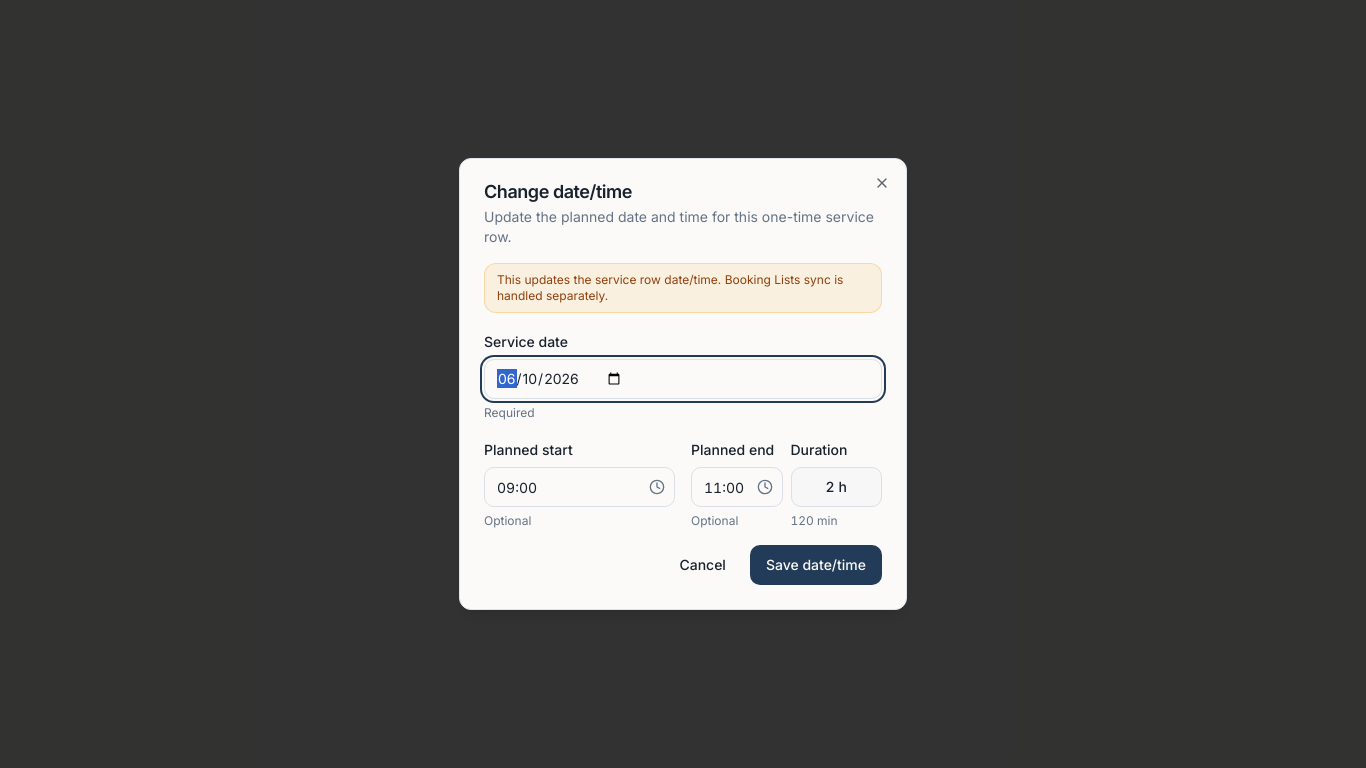
Test: CORE-WRITES-WORKORDERS-A1.2.4a ChangeDateTimeDialog › keeps the dialog open when the RPC fails
Type "2026-06-12" into the date field named "Service date" at (683, 379), box [484,359,882,399]
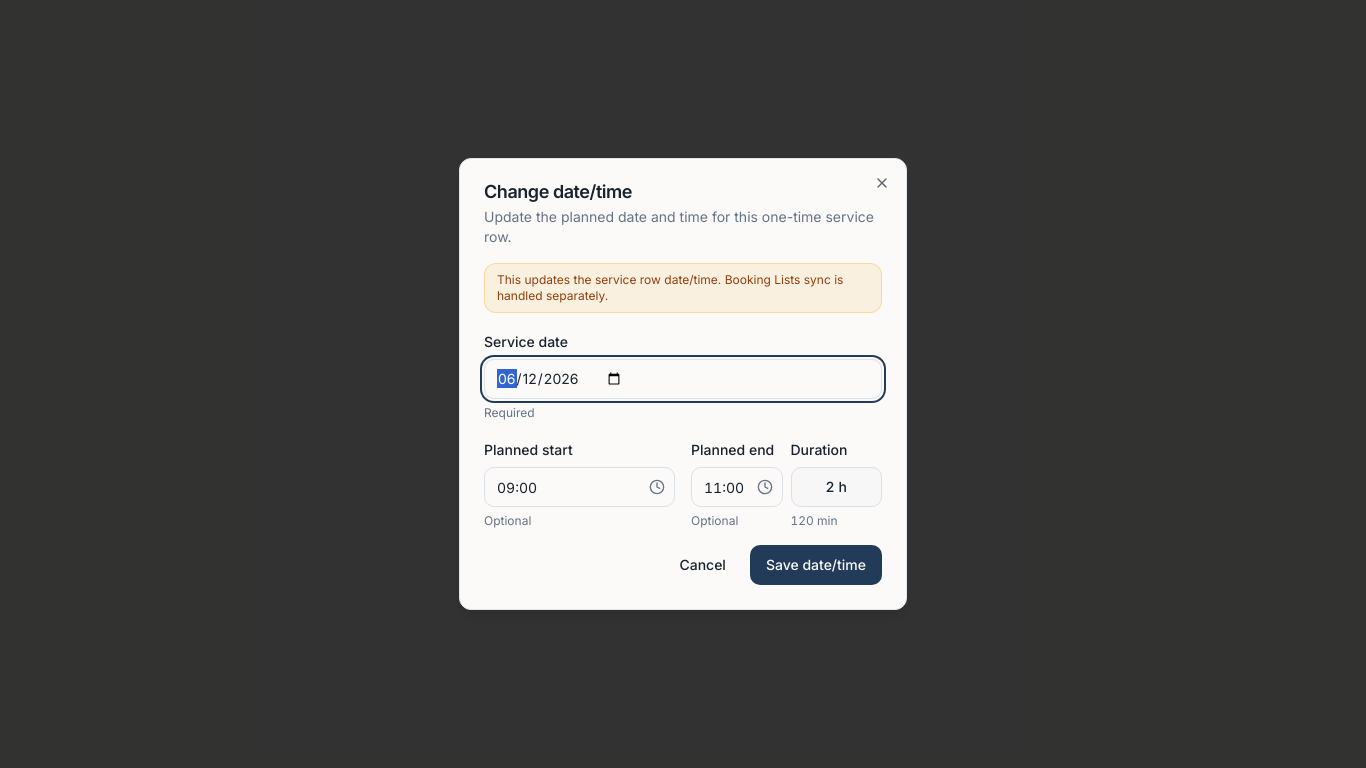
Click the button "Save date/time" at (816, 565), box [750,545,882,585]
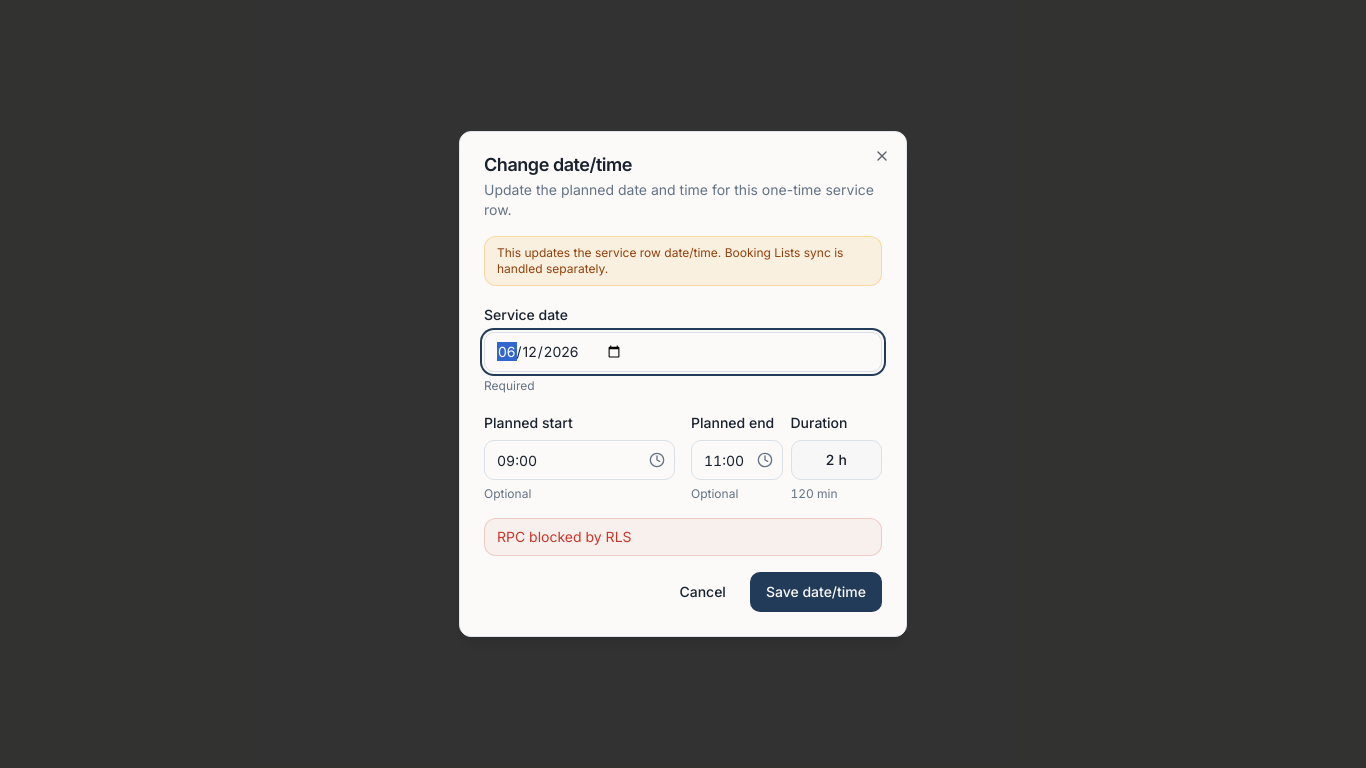
Expected: the text "RPC blocked by RLS" is shown, [484,518,882,556]
